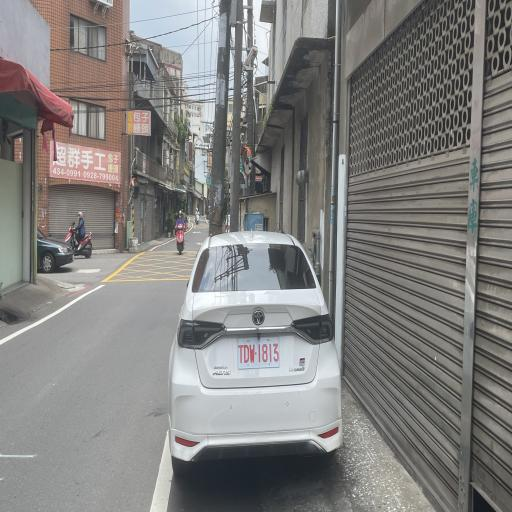car: (156, 216, 357, 487)
whiteline: (146, 412, 174, 509)
